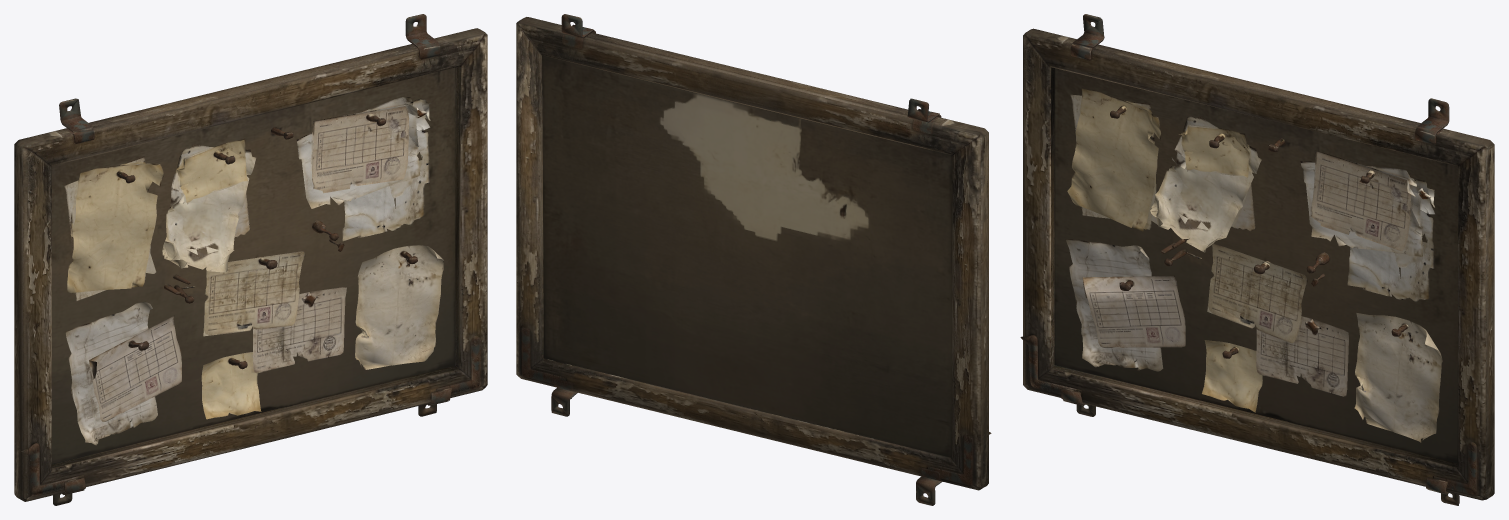
File: silo81_noticeboard.glb
3 renders of one model, left to right at view 1: azimuth 30°, elevation 25°; view 2: azimuth 150°, elevation 25°; view 3: azimuth 330°, elevation 25°, orthographic.
Size of the model in its own units: 0.9575 by 0.7861 by 0.0918.
Materials: 1 (1 with a texture image).
